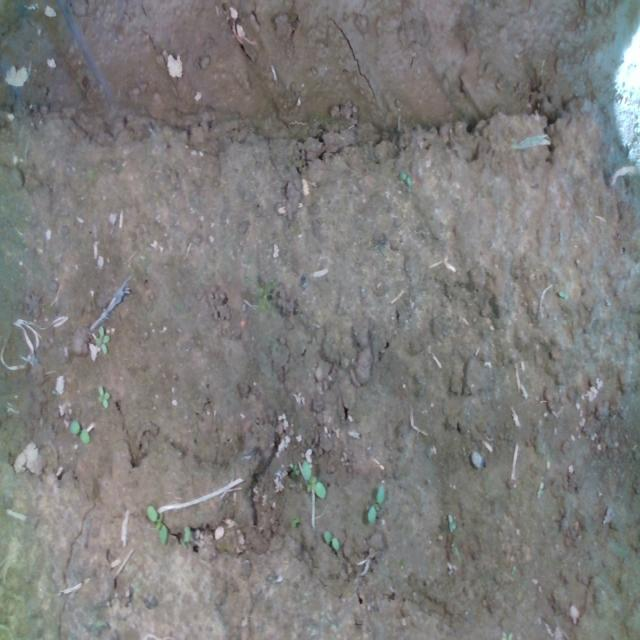weed: (93, 383, 111, 413)
